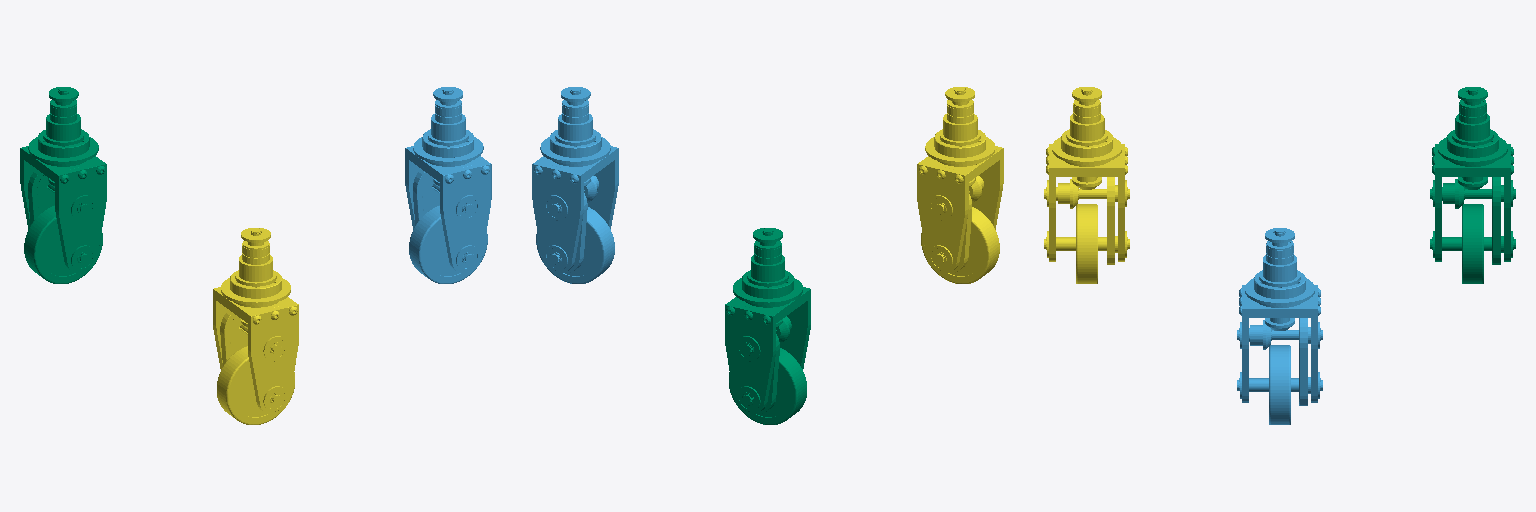
URDF robot description (sidewinder):
<robot name="sidewinder">
  <link name="base_link">
    <visual>
      <origin rpy="-1.5708 0 0" xyz="0 0 0"/>
      <geometry>
        <mesh filename="package://sidewinder_description/meshes/base_link.dae"/>
      </geometry>
    </visual>
  </link>
  <link name="module1_link">
    <visual>
      <geometry>
        <mesh filename="package://sidewinder_description/meshes/module_link.dae"/>
      </geometry>
    </visual>
  </link>
  <link name="module2_link">
    <visual>
      <geometry>
        <mesh filename="package://sidewinder_description/meshes/module_link.dae"/>
      </geometry>
    </visual>
  </link>
  <link name="module3_link">
    <visual>
      <geometry>
        <mesh filename="package://sidewinder_description/meshes/module_link.dae"/>
      </geometry>
    </visual>
  </link>

  <joint name="joint1" type="continuous">
    <parent link="base_link"/>
    <child link="module1_link"/>
    <origin xyz="0.2032 0 0" />
    <axis xyz="0 0 1" />
  </joint>

  <joint name="joint2" type="continuous">
    <parent link="base_link"/>
    <child link="module2_link"/>
    <origin xyz="-0.1016 0.17598 0" />
    <axis xyz="0 0 1" />
  </joint>

  <joint name="joint3" type="continuous">
    <parent link="base_link"/>
    <child link="module3_link"/>
    <origin xyz="-0.1016 -0.17598 0" />
    <axis xyz="0 0 1" />
  </joint>
</robot>

--- What the picture shows (computed from the rendered views, not written in the file) ---
Views: 3 orthographic renders of the robot side by side, from view 1: azimuth 30°, elevation 25°; view 2: azimuth 150°, elevation 25°; view 3: azimuth 270°, elevation 25°.
Robot: sidewinder — 4 links, 3 joints (3 continuous); root link base_link; default pose: all joints at 0.
Links seen in each view (by area): view 1: module1_link, module2_link, module3_link; view 2: module1_link, module3_link, module2_link; view 3: module2_link, module1_link, module3_link.
Link boxes in pixels (x1=…): module1_link: x1=405, y1=87, x2=491, y2=283; module2_link: x1=20, y1=87, x2=106, y2=283; module3_link: x1=213, y1=228, x2=298, y2=424; module1_link: x1=532, y1=87, x2=618, y2=283; module3_link: x1=917, y1=87, x2=1003, y2=283; module2_link: x1=725, y1=228, x2=810, y2=424; module2_link: x1=1430, y1=87, x2=1515, y2=283; module1_link: x1=1237, y1=228, x2=1322, y2=424; module3_link: x1=1044, y1=87, x2=1129, y2=283.
Size in the robot's own frame: 0.3778 by 0.4297 by 0.1926 metres.
Meshes: 2 distinct files referenced, 3 mesh visuals loaded (1 Collada DAE); not drawn: 1 (reference not matched to a file when rendering).